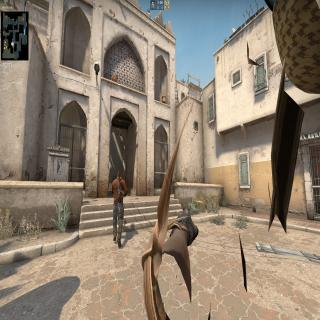T-Head: (116, 170, 123, 180)
